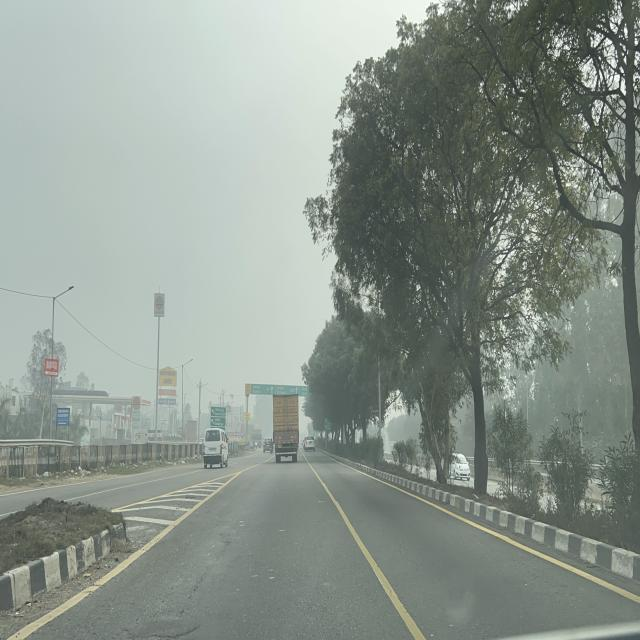GENERAL: (250, 384, 312, 397), (210, 407, 226, 437), (325, 418, 332, 431)
U_TURN_PROHIBITED: (240, 428, 244, 436)
